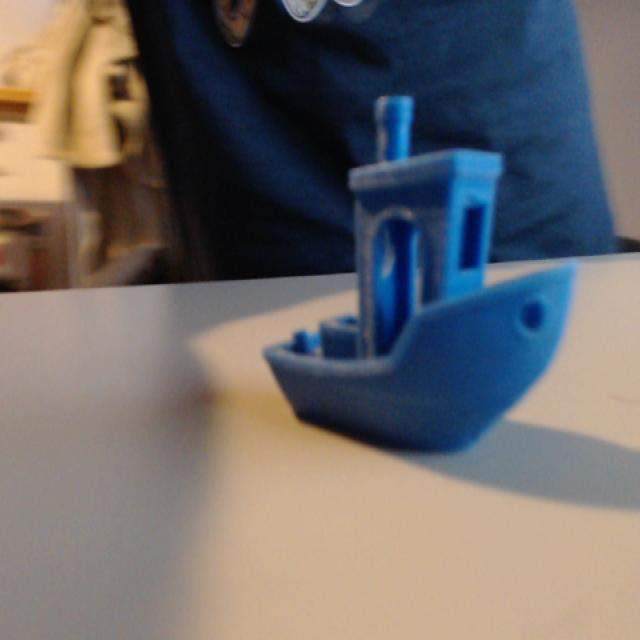benchy: (260, 90, 578, 458)
